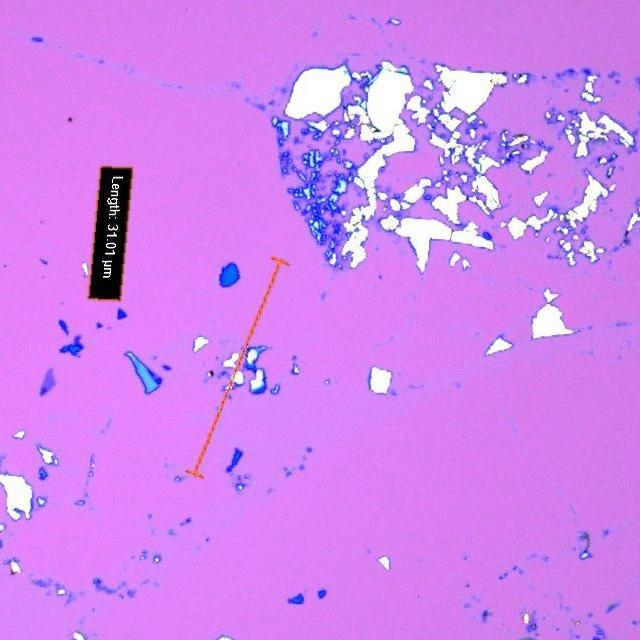monolayer-eWW4: (42, 366, 57, 389)
